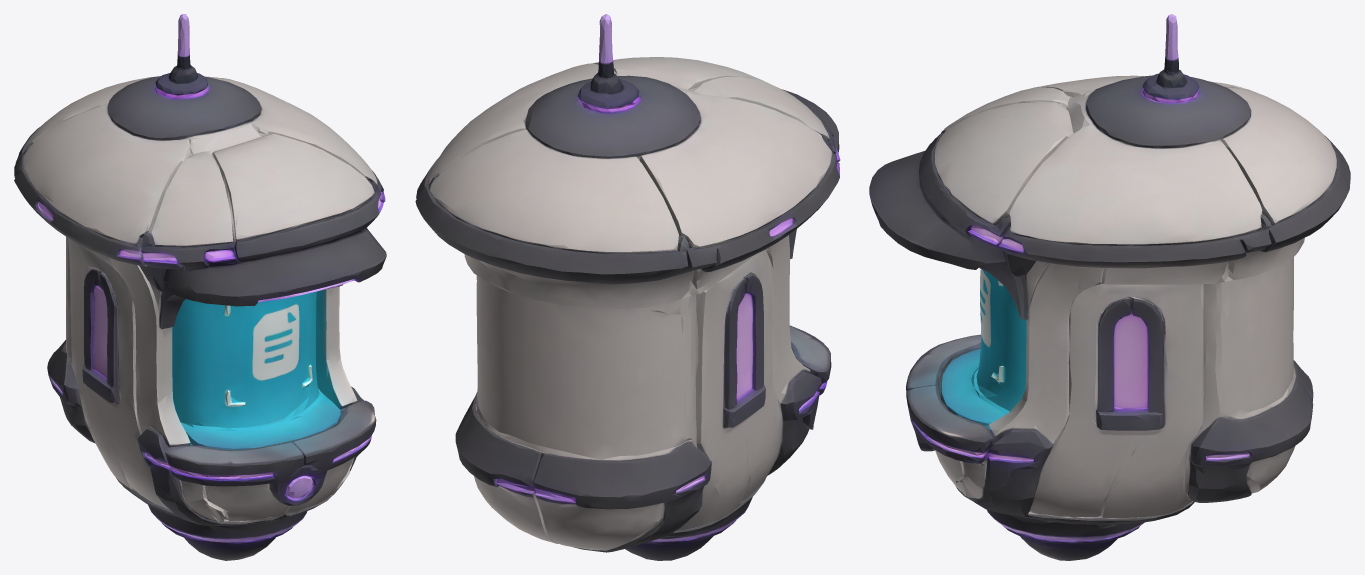
3 views of the same model, side by side, from view 1: azimuth 30°, elevation 25°; view 2: azimuth 150°, elevation 25°; view 3: azimuth 270°, elevation 25° (orthographic). The views are drawn at different scales.
Visible parts, largest first — view 1: Mesh; view 2: Mesh; view 3: Mesh.
Boxes of the visible parts, x1,y1,x2,y2 form: Mesh: [14, 14, 386, 560]; Mesh: [415, 14, 840, 560]; Mesh: [869, 14, 1350, 560].
Bounding box in the file's own units: 1.16 × 1.9 × 1.53.
1 material, 1 textured.
